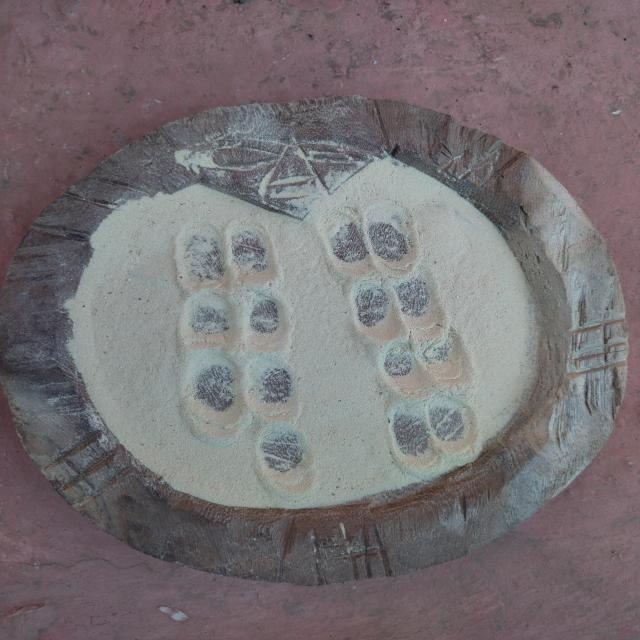double: (180, 355, 300, 424), (176, 286, 292, 352), (171, 219, 280, 286), (343, 270, 444, 336), (387, 394, 477, 464), (316, 210, 424, 268), (372, 332, 470, 394)
single: (254, 424, 320, 498)
